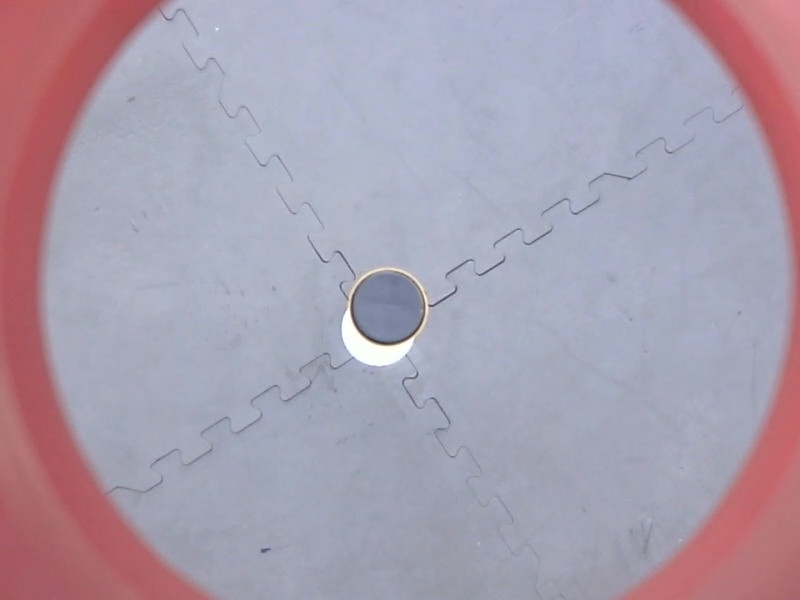tip: (343, 263, 435, 350)
